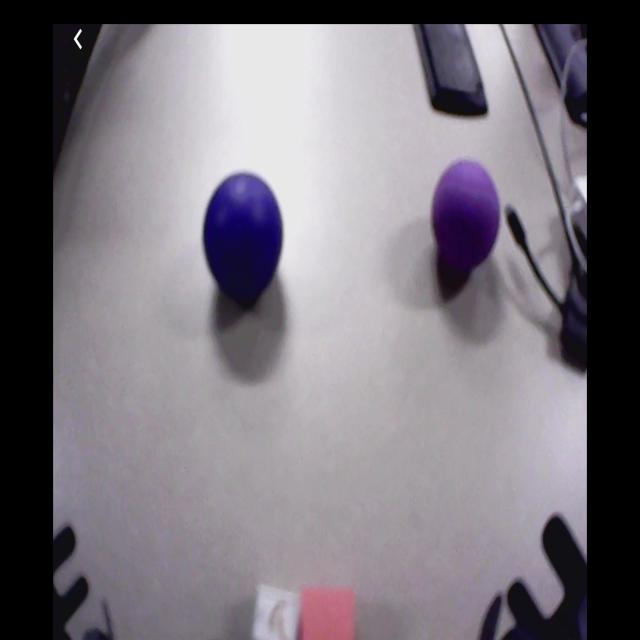ball: (203, 173, 284, 293), (433, 160, 501, 260)
